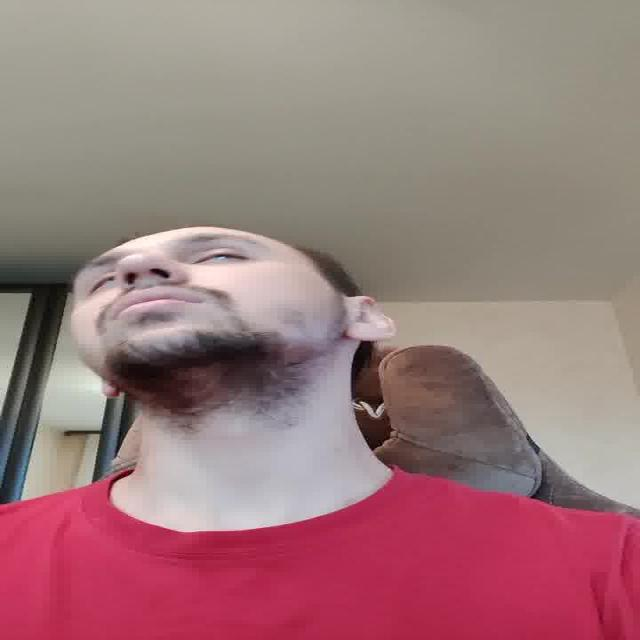earlobe: (344, 329, 399, 343), (100, 380, 122, 400)
eye: (189, 250, 254, 264), (90, 273, 120, 295)
nose: (119, 274, 189, 290)
wholeear: (343, 292, 401, 342)
